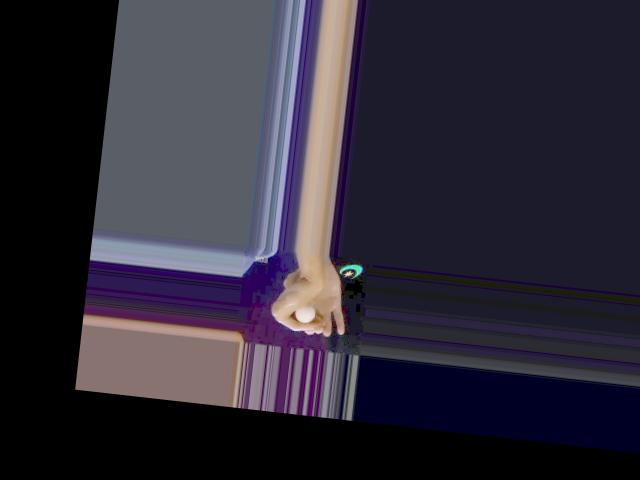egg: (293, 305, 316, 324)
